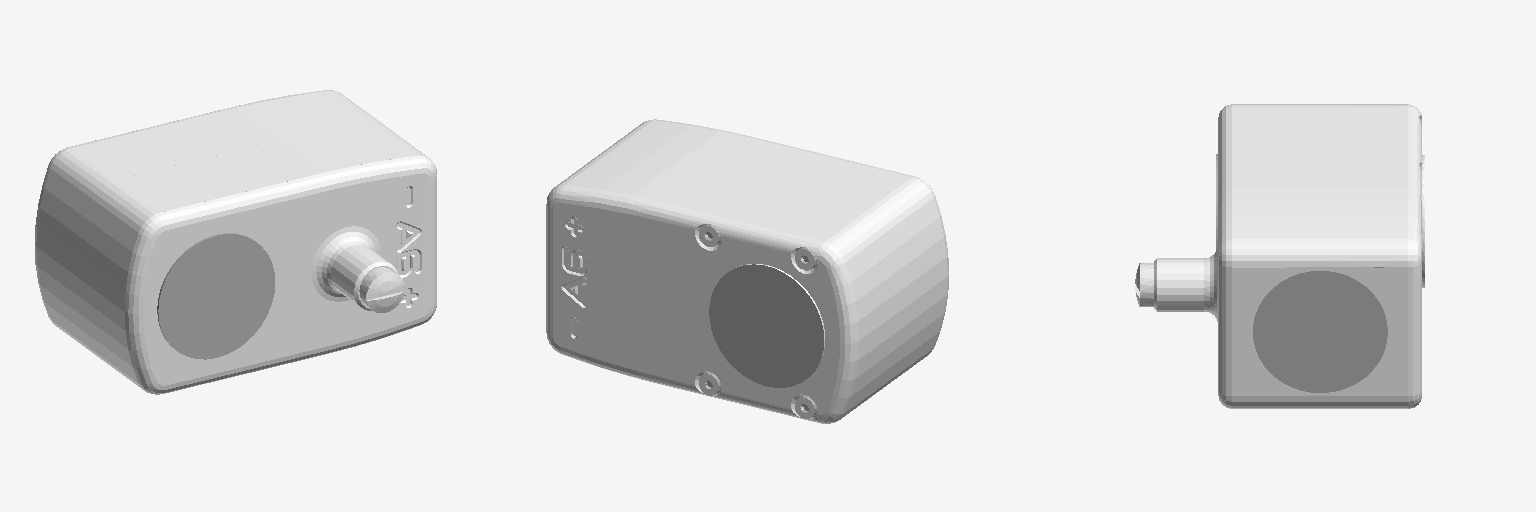
The model's file is meca500link_5.obj.
The picture shows the model from 3 angles: view 1: azimuth 30°, elevation 25°; view 2: azimuth 150°, elevation 25°; view 3: azimuth 270°, elevation 25°; orthographic projection.
Parts seen in each view (by area): view 1: Solid1; view 2: Solid1; view 3: Solid1.
Boxes of the visible parts, x1=… form: Solid1: x1=35, y1=90, x2=436, y2=394; Solid1: x1=546, y1=119, x2=948, y2=423; Solid1: x1=1135, y1=104, x2=1424, y2=408.
Size of the model in its own units: 0.081 by 0.045 by 0.0652.